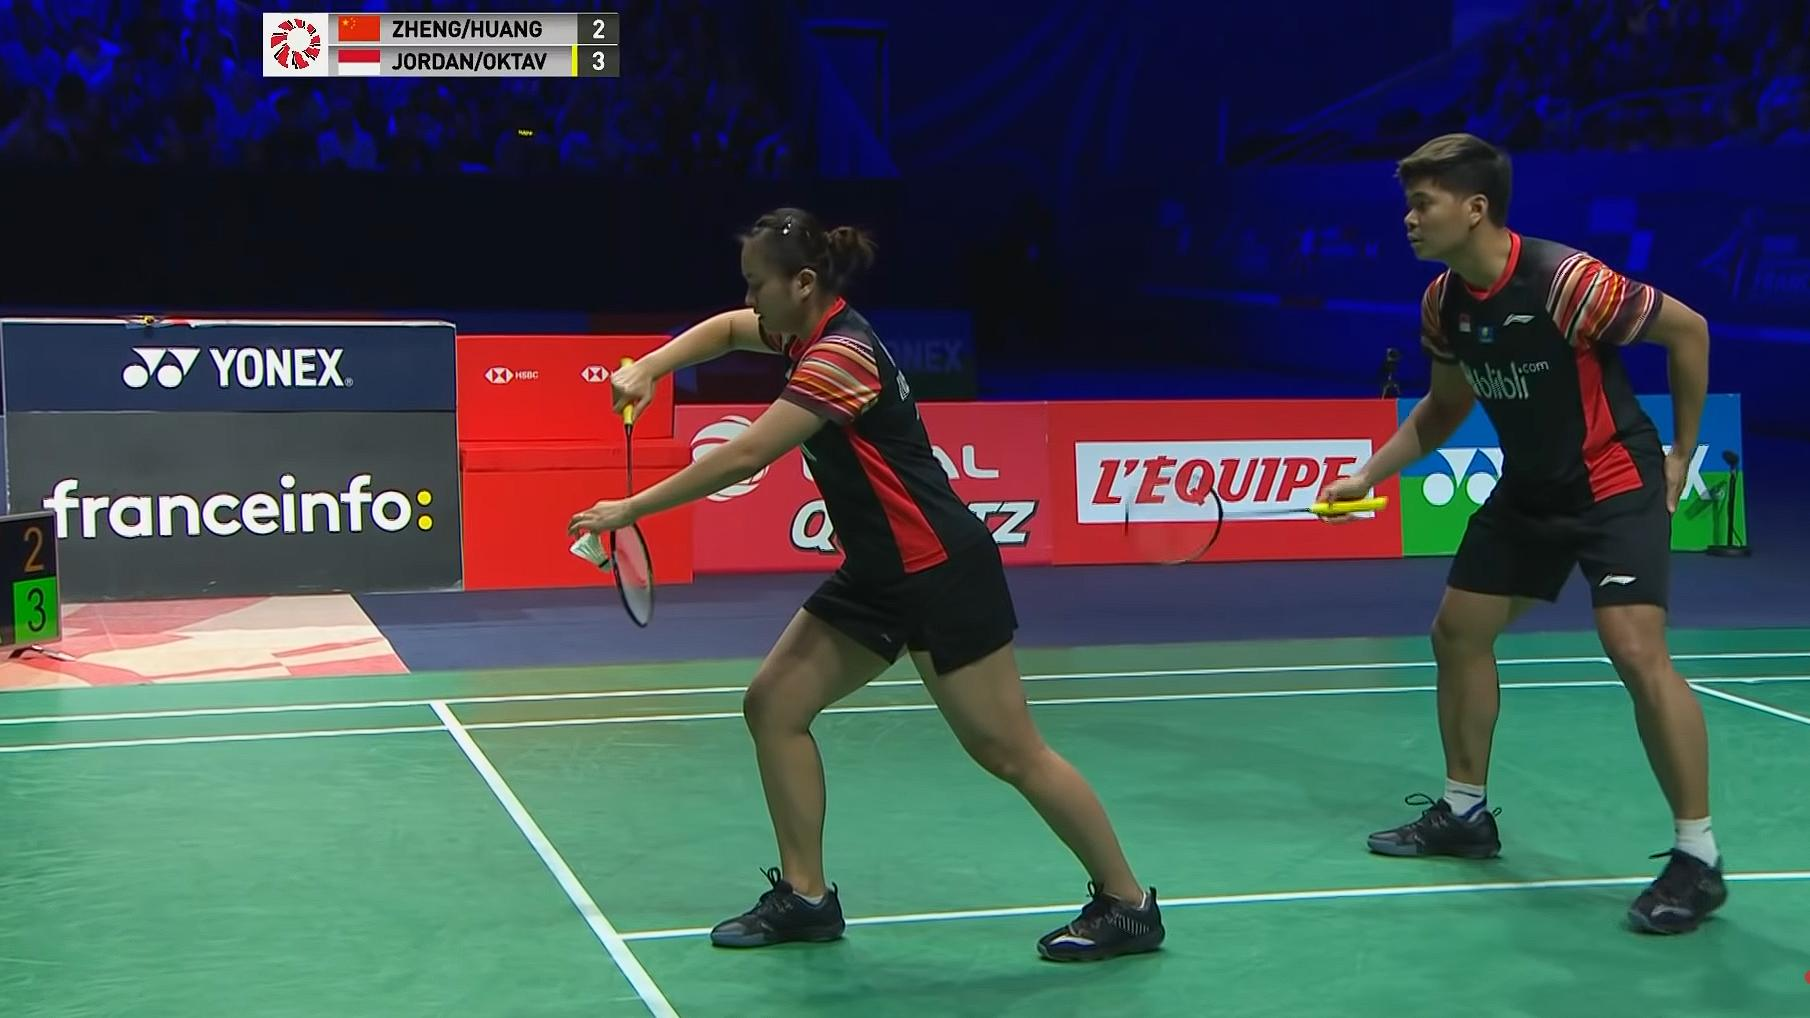racket: (1103, 477, 1278, 577), (595, 507, 673, 640)
shuttle: (552, 523, 615, 573)
